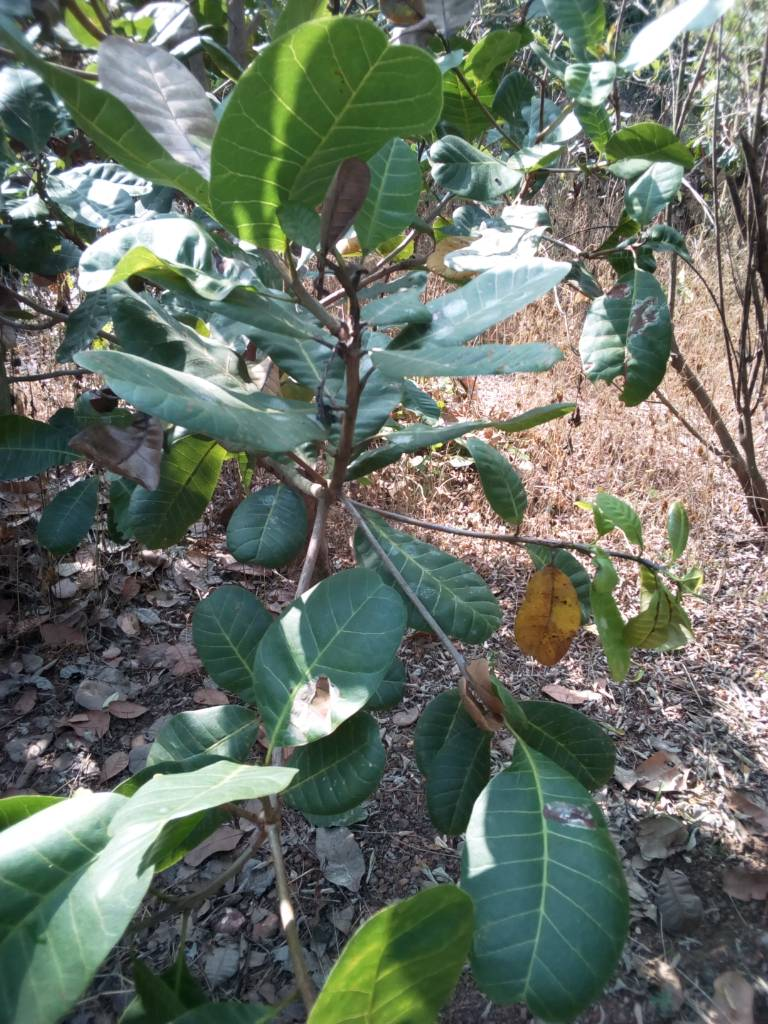Dessèchement des bourgeons: (316, 155, 375, 288)
